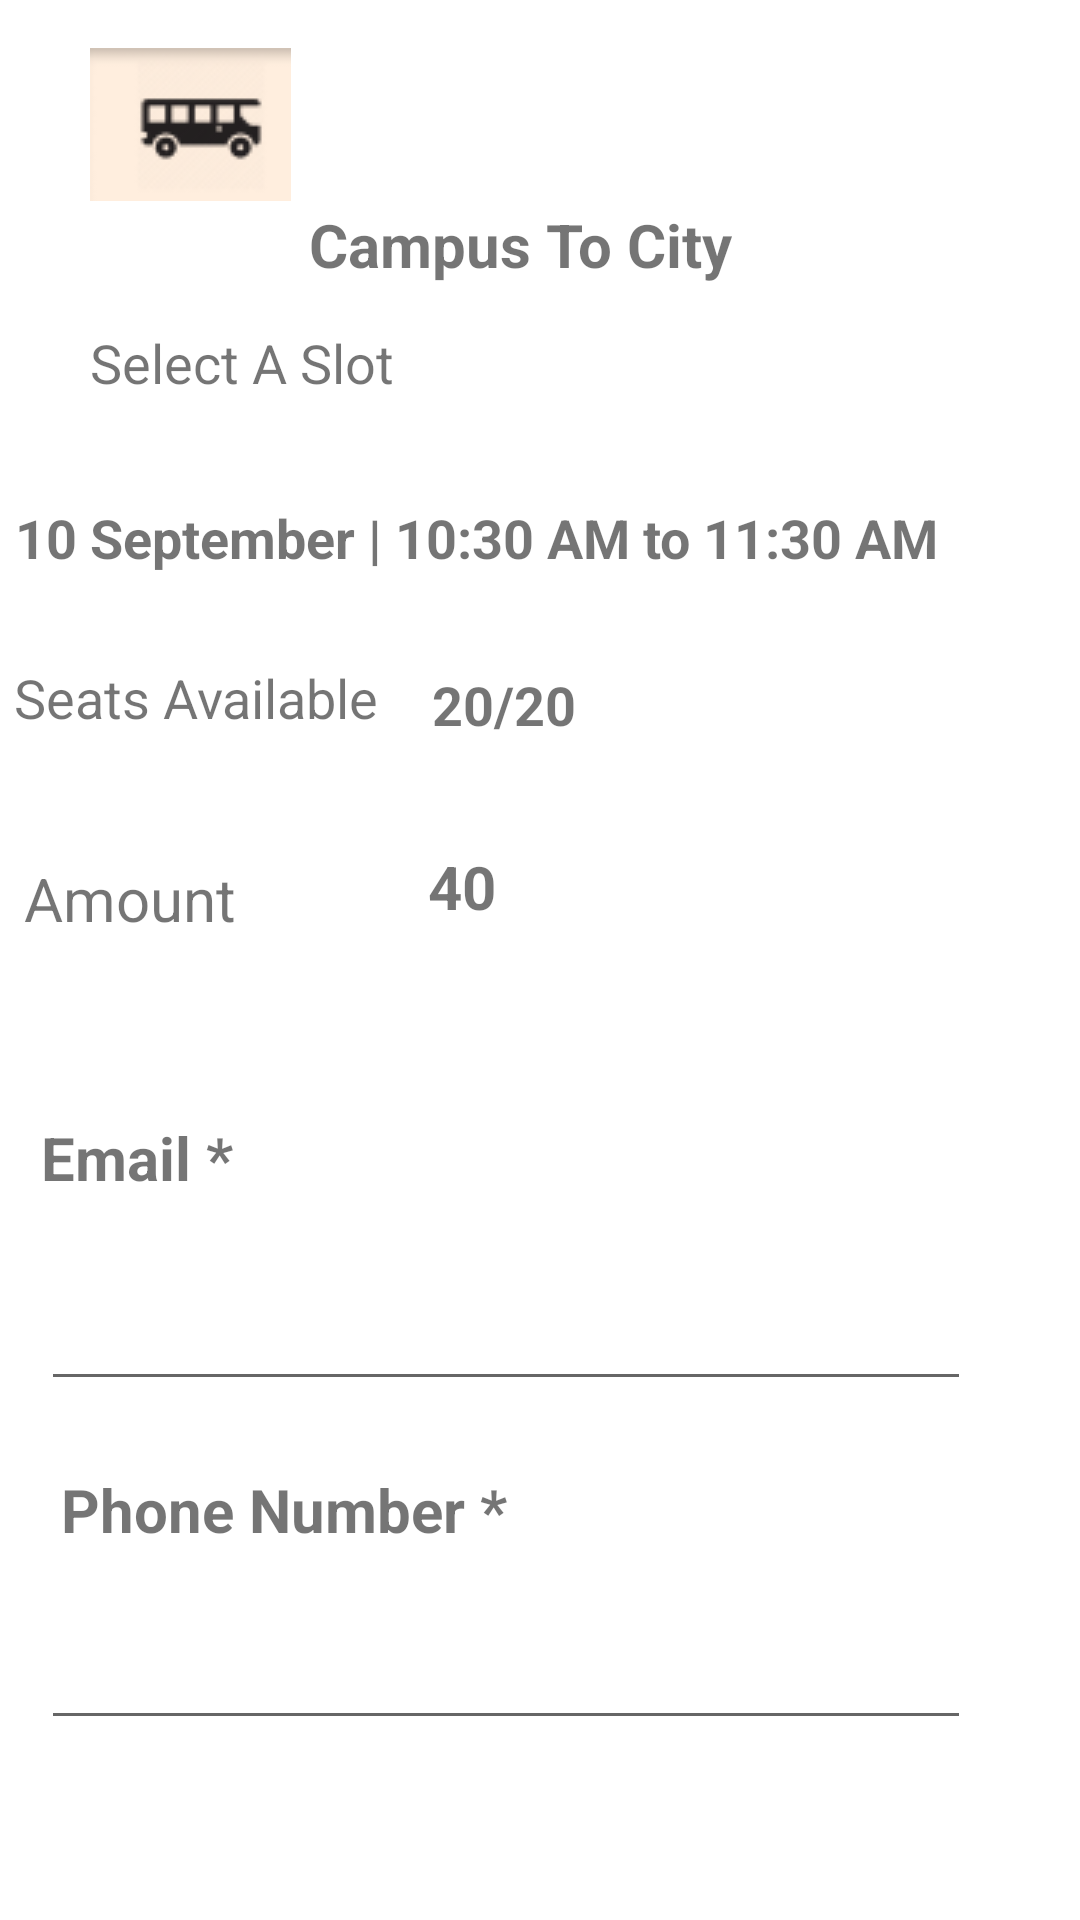

Icons on this 1080×1920 Android screen, each with its box as box=[x1, y1, x2, y2]:
shuttleimg: box=[90, 48, 291, 201]
